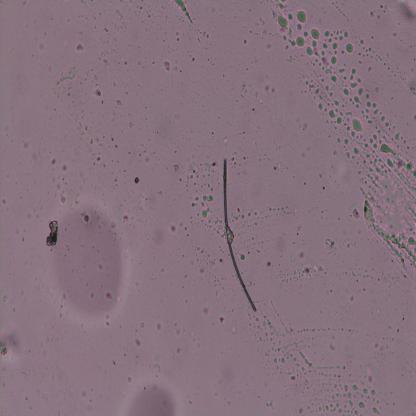Background material: (53, 202, 128, 321), (363, 198, 416, 271), (248, 314, 296, 354), (126, 382, 182, 414), (233, 200, 291, 222), (282, 265, 327, 283), (359, 168, 385, 199), (195, 249, 220, 280), (318, 397, 358, 415), (173, 0, 195, 27), (0, 331, 20, 358), (290, 353, 313, 375), (397, 169, 416, 195), (45, 219, 61, 249), (391, 0, 416, 19), (370, 0, 392, 21), (342, 268, 374, 282), (57, 64, 77, 86), (207, 216, 226, 239), (302, 78, 321, 100), (314, 50, 331, 74), (336, 136, 353, 160), (357, 34, 373, 58), (322, 235, 338, 256), (364, 155, 381, 174), (330, 381, 346, 400), (298, 349, 313, 368), (146, 357, 160, 376), (407, 72, 416, 98), (76, 121, 91, 136), (194, 28, 208, 44), (360, 107, 373, 124), (351, 118, 364, 134), (295, 328, 335, 333), (238, 80, 248, 100), (189, 168, 200, 186), (379, 144, 397, 155), (293, 246, 307, 260), (290, 37, 306, 49), (315, 362, 334, 371), (96, 87, 107, 102), (60, 188, 69, 206), (296, 11, 308, 24), (277, 15, 288, 29), (98, 52, 109, 66), (90, 154, 101, 168), (263, 399, 275, 411), (200, 194, 216, 203), (190, 193, 198, 210), (404, 159, 413, 174), (325, 86, 335, 99), (372, 342, 385, 352), (109, 355, 118, 369), (273, 356, 287, 365), (163, 59, 172, 73), (369, 134, 378, 148), (154, 321, 165, 332), (235, 250, 246, 261), (328, 338, 338, 350), (339, 30, 349, 42), (168, 160, 178, 172), (104, 312, 111, 328), (22, 365, 30, 379), (316, 371, 332, 378), (292, 226, 303, 236), (257, 18, 267, 29), (310, 29, 320, 40), (115, 10, 125, 21), (345, 42, 354, 54), (229, 154, 238, 166), (263, 40, 273, 50), (386, 158, 396, 168), (342, 87, 351, 98), (352, 95, 363, 104), (194, 246, 205, 255), (311, 38, 319, 50), (206, 180, 214, 192), (370, 387, 378, 399), (352, 208, 360, 220), (344, 328, 360, 334), (328, 107, 336, 119), (170, 221, 177, 234), (346, 390, 356, 399), (330, 74, 339, 84), (201, 208, 210, 218), (352, 146, 361, 156), (76, 43, 86, 52), (350, 67, 356, 81), (61, 164, 69, 174), (352, 382, 360, 392), (138, 319, 145, 330), (320, 183, 327, 194), (333, 99, 340, 110), (126, 374, 133, 385), (297, 406, 305, 415), (218, 316, 226, 325), (372, 407, 381, 415), (330, 56, 338, 65), (114, 99, 124, 106), (51, 158, 58, 168), (374, 84, 381, 94), (307, 47, 314, 57), (174, 345, 181, 355), (280, 31, 286, 42), (394, 132, 401, 141), (400, 310, 406, 320), (362, 385, 368, 395), (336, 115, 342, 125), (256, 247, 262, 257), (358, 87, 364, 97), (201, 308, 208, 316), (134, 340, 142, 347), (358, 402, 366, 409), (317, 102, 324, 110), (304, 118, 308, 132), (133, 176, 140, 184), (322, 42, 329, 50), (319, 168, 324, 179), (380, 114, 386, 123), (241, 36, 247, 45), (266, 85, 272, 94), (324, 29, 330, 38), (332, 42, 338, 51), (350, 82, 359, 88), (289, 373, 296, 380), (183, 272, 189, 280), (288, 12, 294, 20), (338, 68, 346, 74), (366, 100, 372, 108), (304, 30, 310, 37), (367, 65, 373, 72), (343, 384, 350, 390), (284, 42, 289, 50), (385, 121, 390, 129), (88, 139, 94, 145), (105, 26, 111, 32), (176, 326, 180, 335), (298, 24, 302, 31), (110, 136, 114, 143), (267, 260, 271, 267), (272, 165, 276, 172), (211, 162, 216, 167), (123, 60, 128, 65), (192, 56, 196, 62), (342, 364, 346, 370), (397, 326, 400, 334), (337, 374, 341, 379), (333, 373, 337, 378), (139, 5, 143, 10), (176, 36, 179, 42), (114, 144, 118, 148), (184, 226, 187, 231), (148, 13, 151, 18), (252, 108, 255, 112)
Microfibre: (222, 159, 258, 314)
